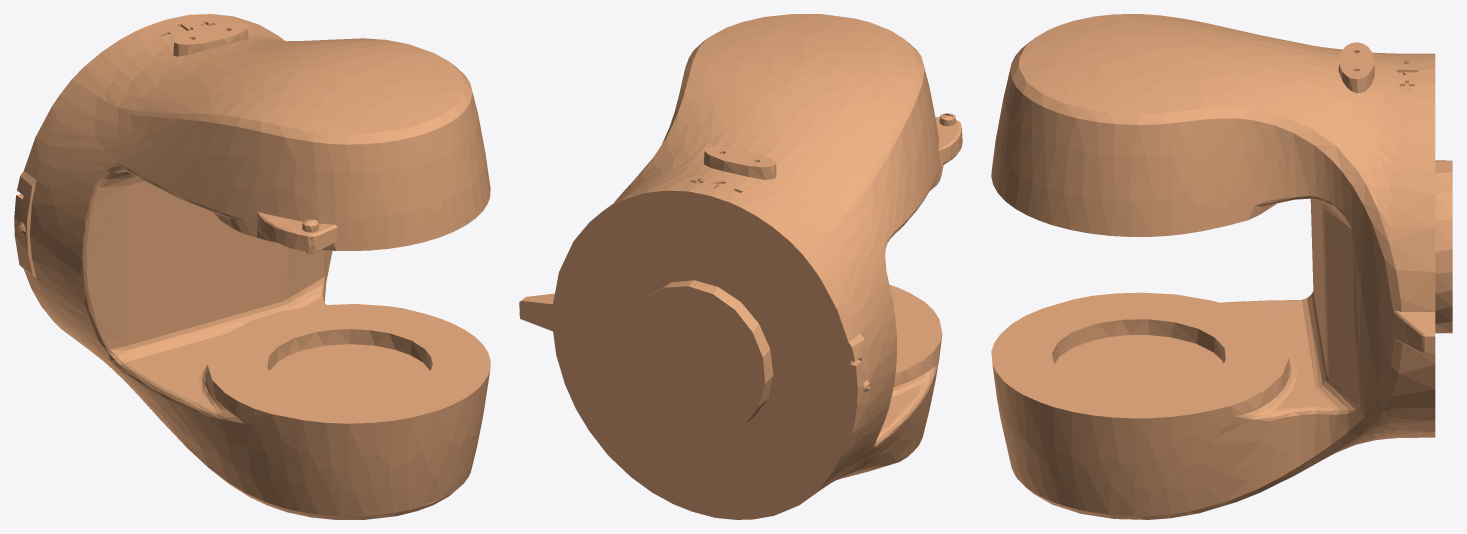
3 renders of one model, left to right at view 1: azimuth 30°, elevation 25°; view 2: azimuth 150°, elevation 25°; view 3: azimuth 270°, elevation 25°, orthographic. The views are drawn at different scales.
Visible parts, largest first — view 1: /Link_1/Link_1-mesh/0; view 2: /Link_1/Link_1-mesh/0; view 3: /Link_1/Link_1-mesh/0.
Part boxes in pixels (x1,y1,x2,y2): /Link_1/Link_1-mesh/0: [14, 14, 490, 519]; /Link_1/Link_1-mesh/0: [519, 14, 962, 519]; /Link_1/Link_1-mesh/0: [991, 14, 1452, 519].
Bounding box in the file's own units: 0.2462 × 0.2739 × 0.2653.
